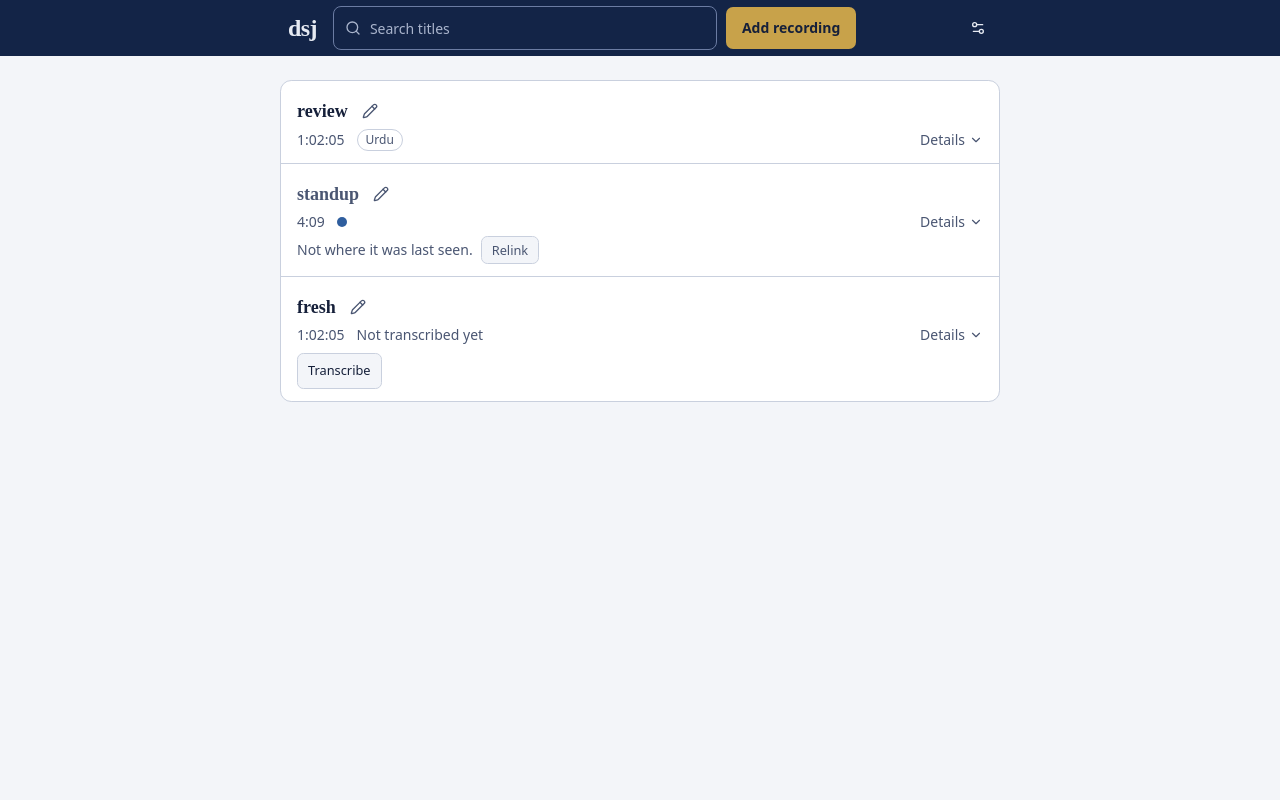
Test case: the library page › offers Transcribe only on a recording with no transcript, and Transcribe again under Details
Expected: the button "Transcribe" is shown, [297,353,382,389]
Click the button "Details" in the row of "Urdu": (952, 140) [920,130,983,150]
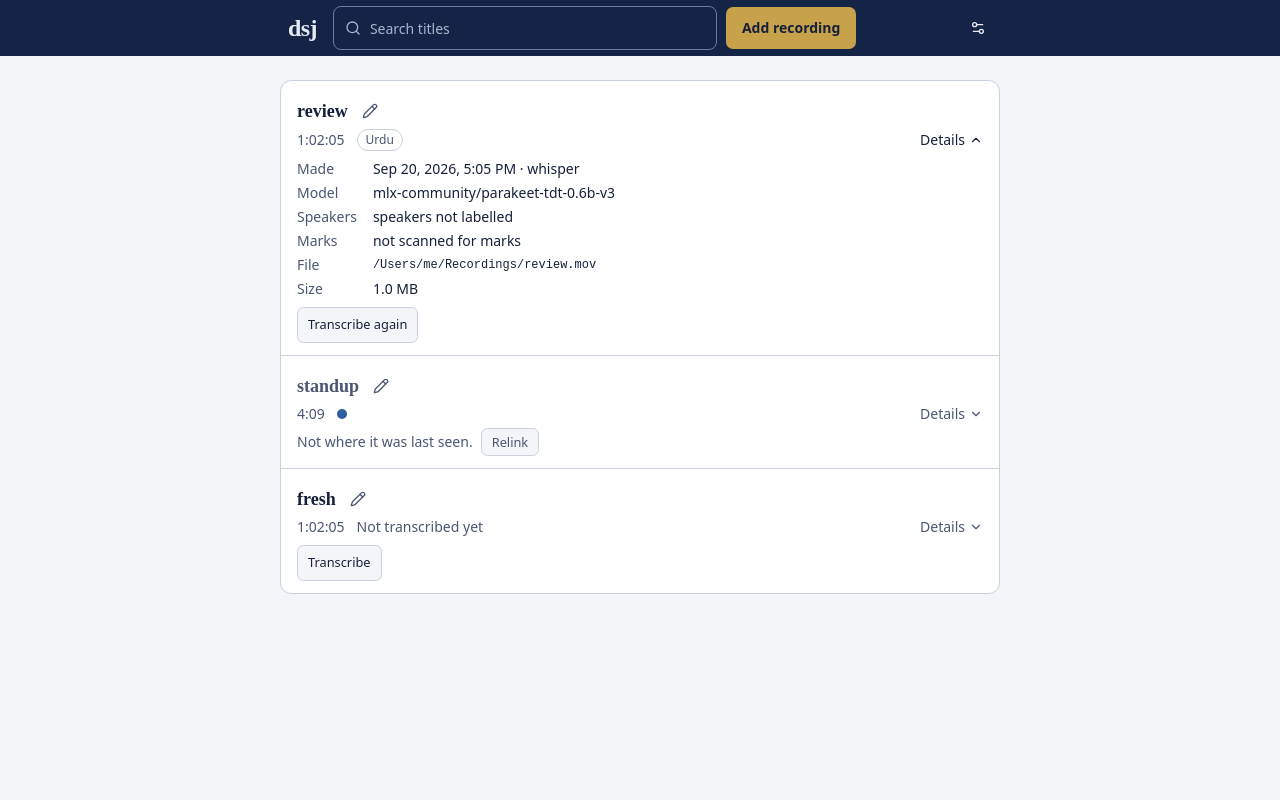
Expected: the button "Transcribe again" is shown, [297,307,418,343]
